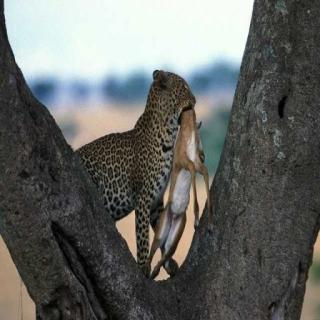Leopard: (53, 57, 202, 249)
